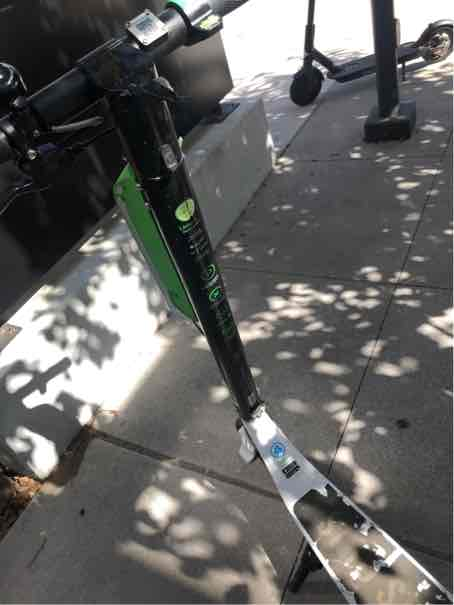scooter: (9, 9, 438, 605)
